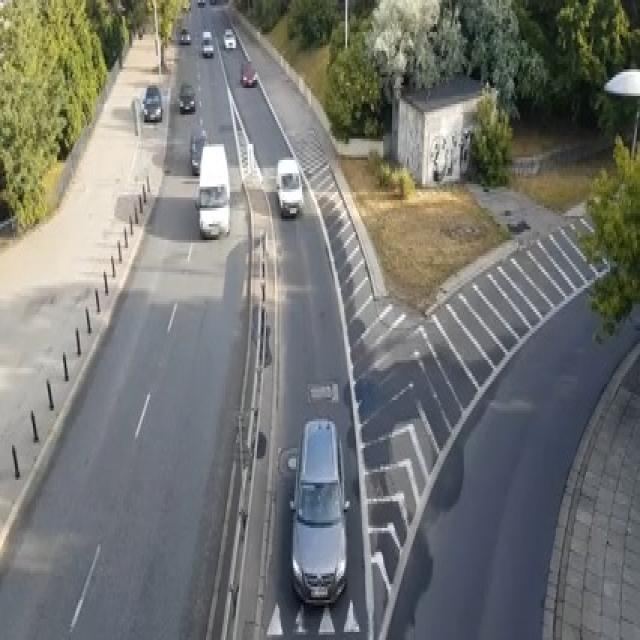bus: (195, 142, 230, 238)
car: (288, 416, 350, 605), (275, 157, 303, 216), (190, 125, 208, 173), (143, 82, 162, 122), (179, 83, 195, 112), (240, 61, 257, 85), (200, 29, 213, 56), (222, 27, 236, 48), (179, 27, 191, 42), (196, 0, 204, 5), (209, 0, 216, 3)
